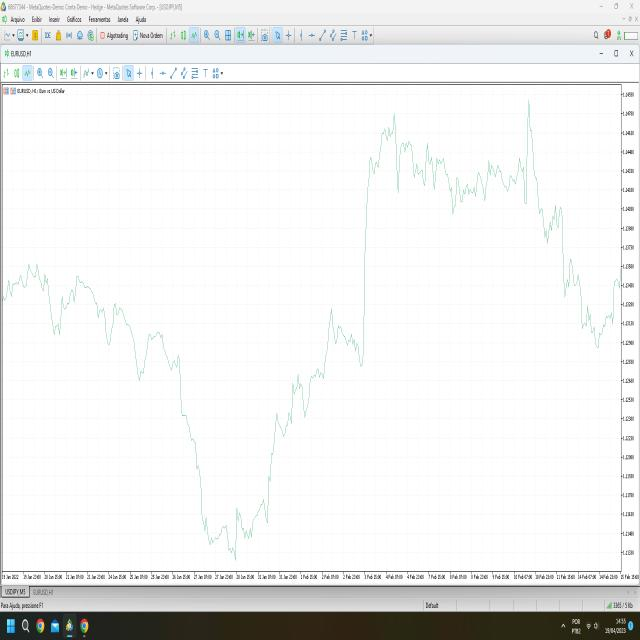bandeira_alta: (359, 106, 435, 378)
oco_inv: (175, 419, 293, 579), (573, 258, 623, 364)
